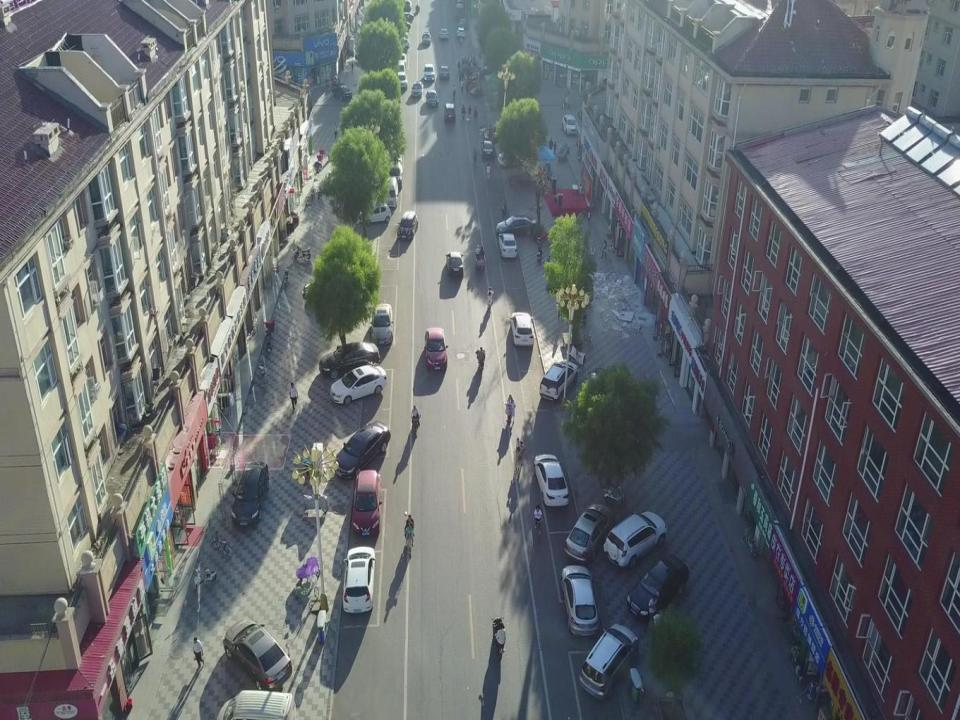car: (222, 617, 292, 690), (579, 623, 638, 698), (626, 554, 689, 616), (604, 511, 667, 568), (334, 421, 391, 478), (564, 503, 615, 562), (560, 565, 600, 636), (231, 460, 269, 527), (342, 546, 376, 613), (330, 365, 388, 404), (318, 342, 380, 378), (351, 470, 382, 536), (534, 454, 568, 506), (540, 360, 578, 402), (424, 326, 448, 370), (370, 302, 394, 345), (358, 201, 392, 226), (511, 312, 534, 348), (496, 216, 537, 236), (396, 210, 419, 241), (498, 232, 518, 259), (445, 250, 464, 275), (388, 161, 402, 190), (332, 84, 352, 100), (562, 114, 577, 134), (425, 90, 438, 109), (395, 72, 408, 90), (444, 103, 456, 122), (481, 139, 493, 158), (423, 64, 435, 82), (411, 81, 423, 97), (439, 64, 450, 78), (422, 31, 432, 44), (438, 28, 448, 40), (456, 26, 465, 38)
van: (215, 689, 299, 720), (381, 175, 398, 208)
